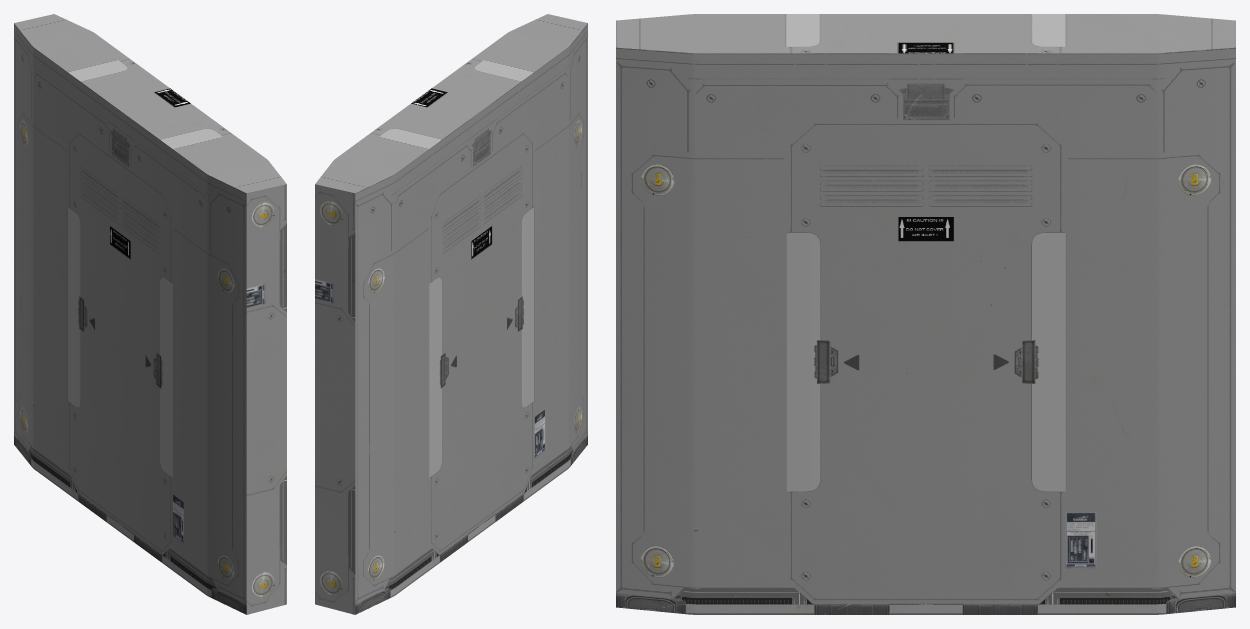
File: SM_WallType1d.fbx
3 views of the same model, side by side, from view 1: azimuth 30°, elevation 25°; view 2: azimuth 150°, elevation 25°; view 3: azimuth 270°, elevation 25° (orthographic). The views are drawn at different scales.
Parts seen in each view (by area): view 1: SM_WallType1d_LOD0; view 2: SM_WallType1d_LOD0; view 3: SM_WallType1d_LOD0.
Part boxes in pixels (x1,y1,x2,y2): SM_WallType1d_LOD0: [14, 14, 286, 614]; SM_WallType1d_LOD0: [315, 14, 587, 614]; SM_WallType1d_LOD0: [616, 14, 1235, 614].
Bounding box in the file's own units: 60 × 400 × 400.
1 material, 1 textured.
